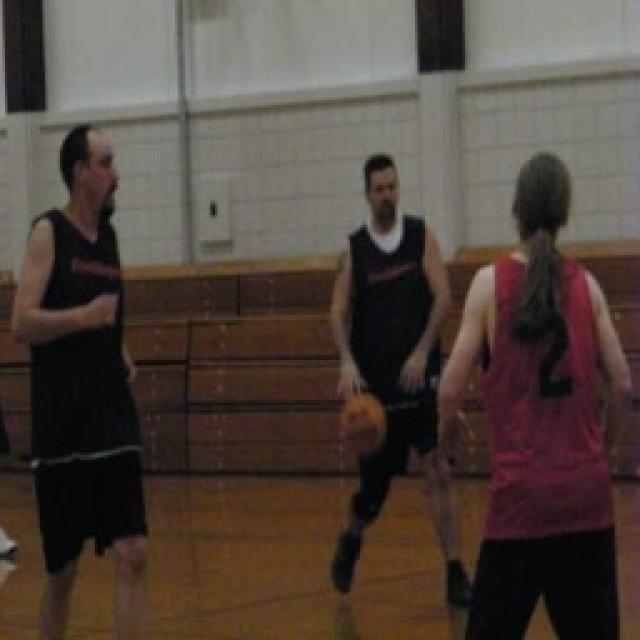rim: (334, 384, 394, 456)
